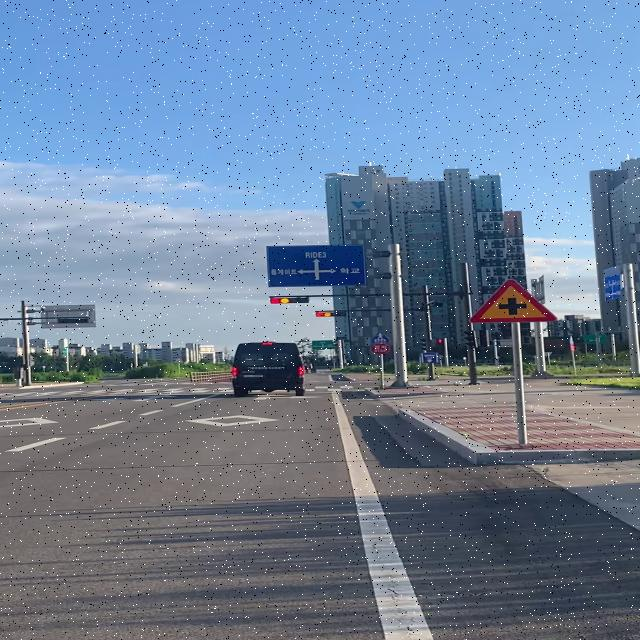yellow_light: (269, 298, 310, 304), (315, 312, 347, 317)
